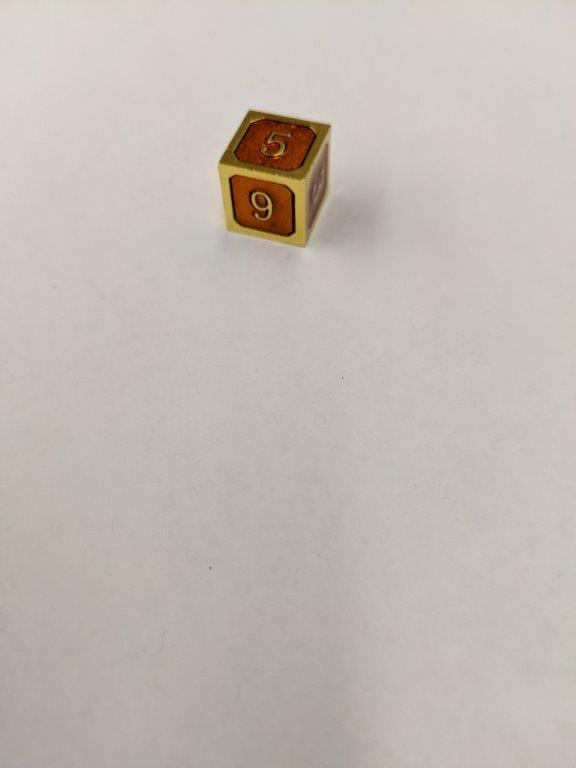d6-5: (215, 108, 334, 250)
